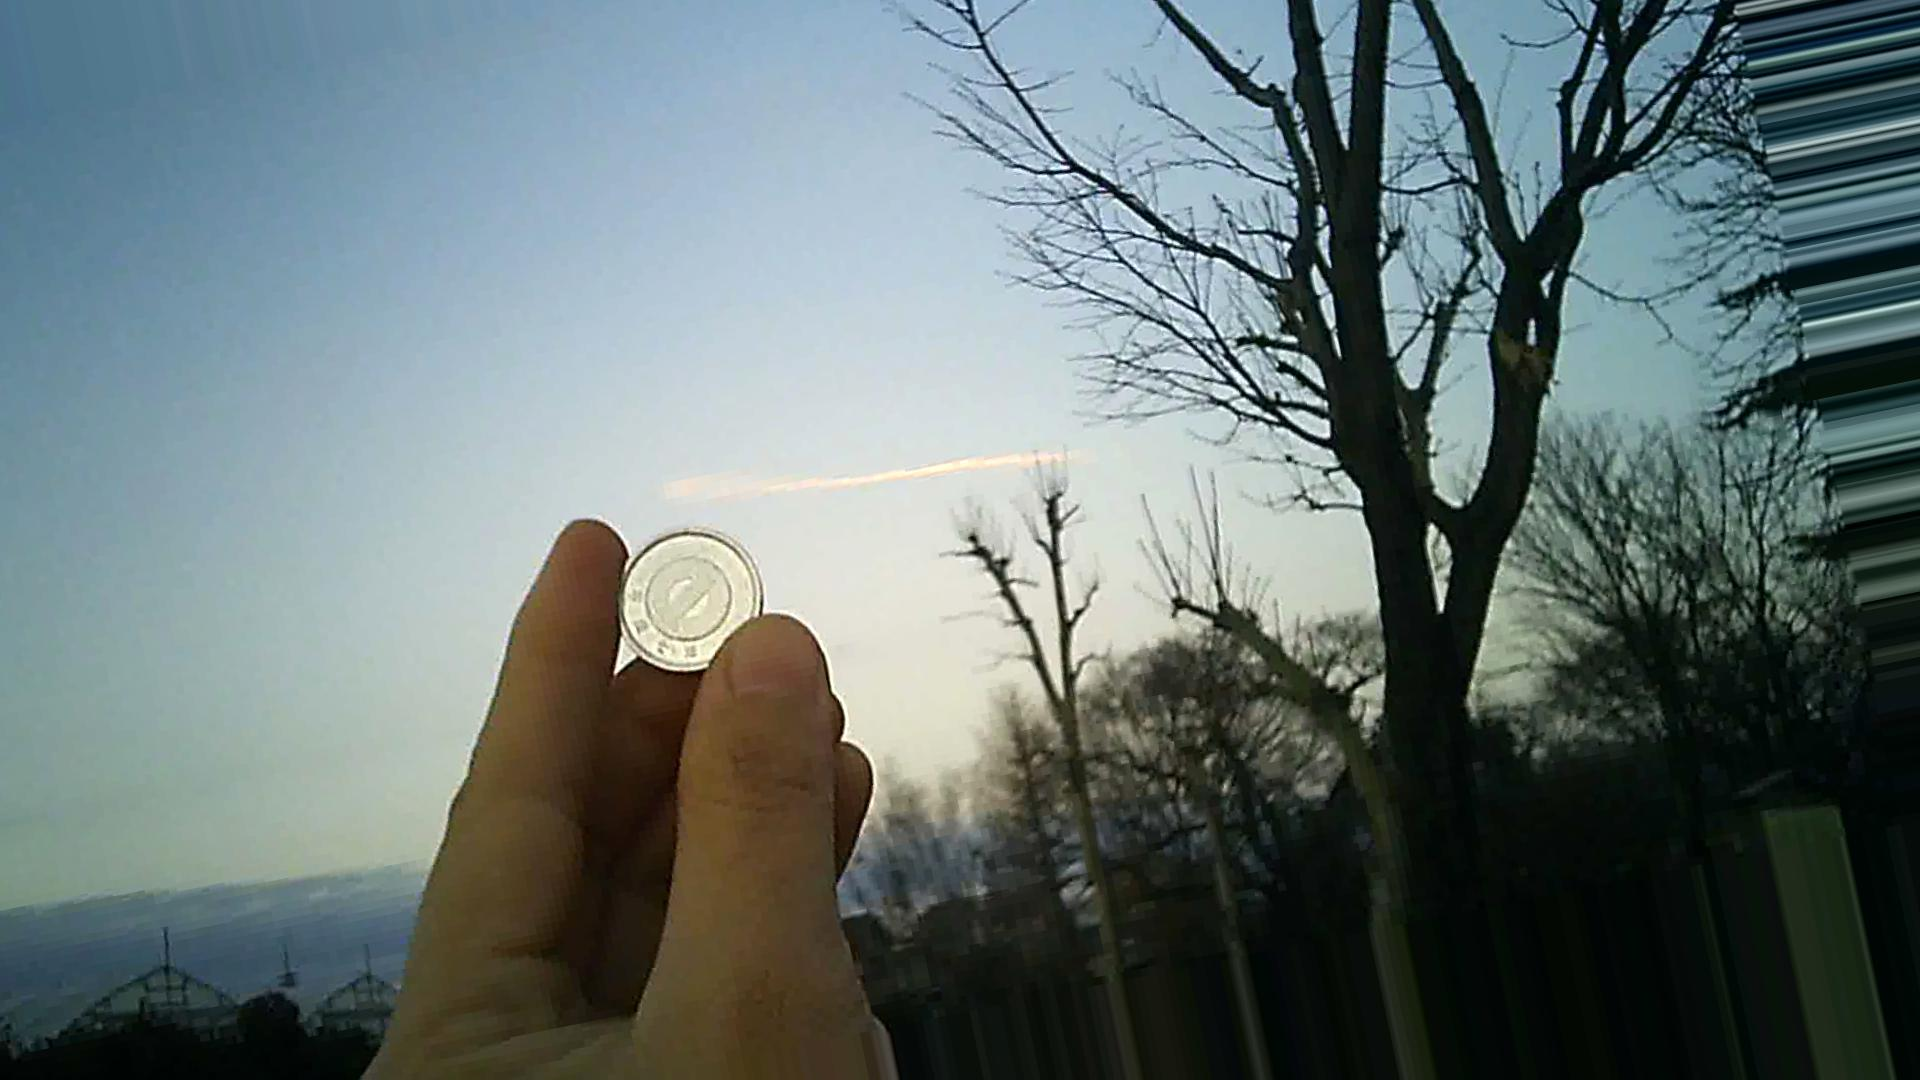1 Yen: (587, 513, 785, 679)
